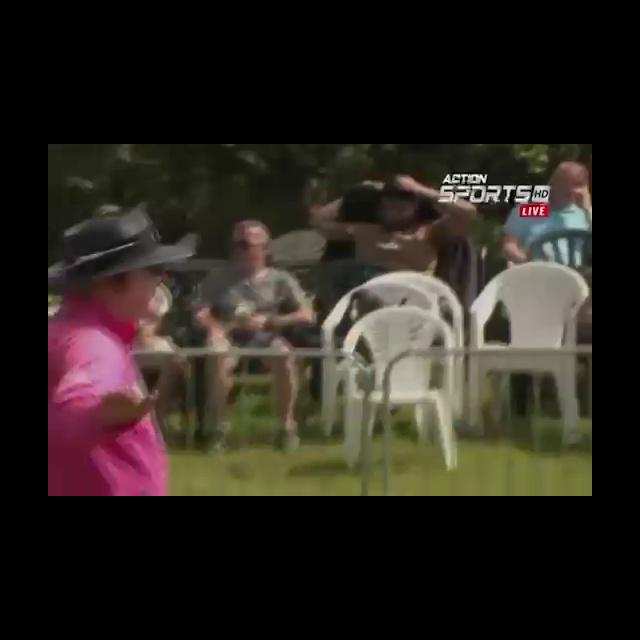umpire: (48, 172, 256, 494)
